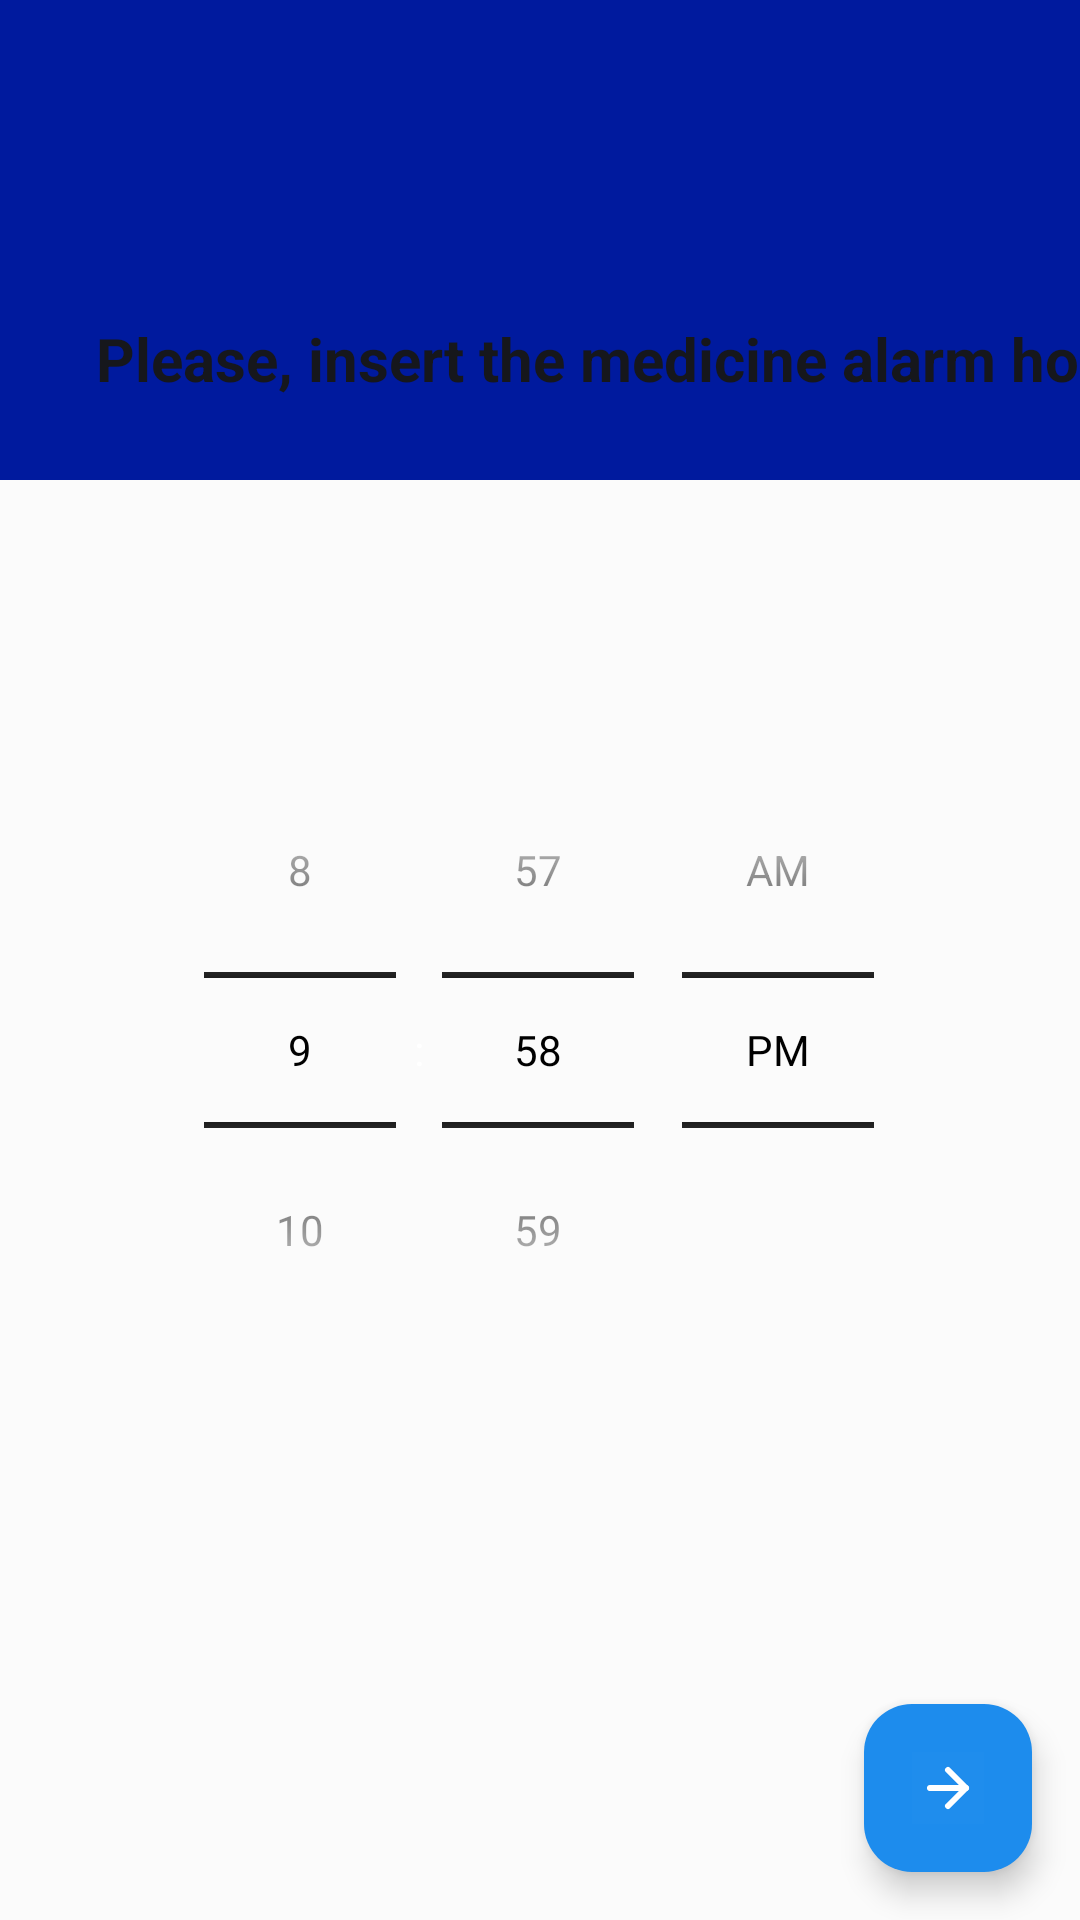

Icons on this 1080px x 1920px Android screen, each with the point to tap as (x=x, y=y):
Goes to the next page: (x=948, y=1788)
